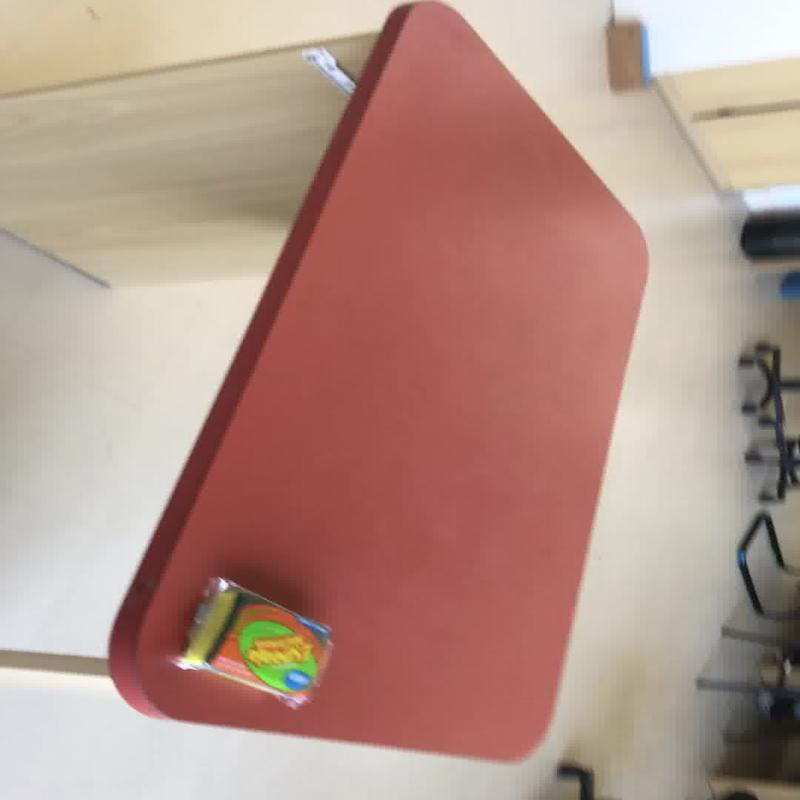sponge: (104, 0, 649, 762), (174, 575, 334, 709)
